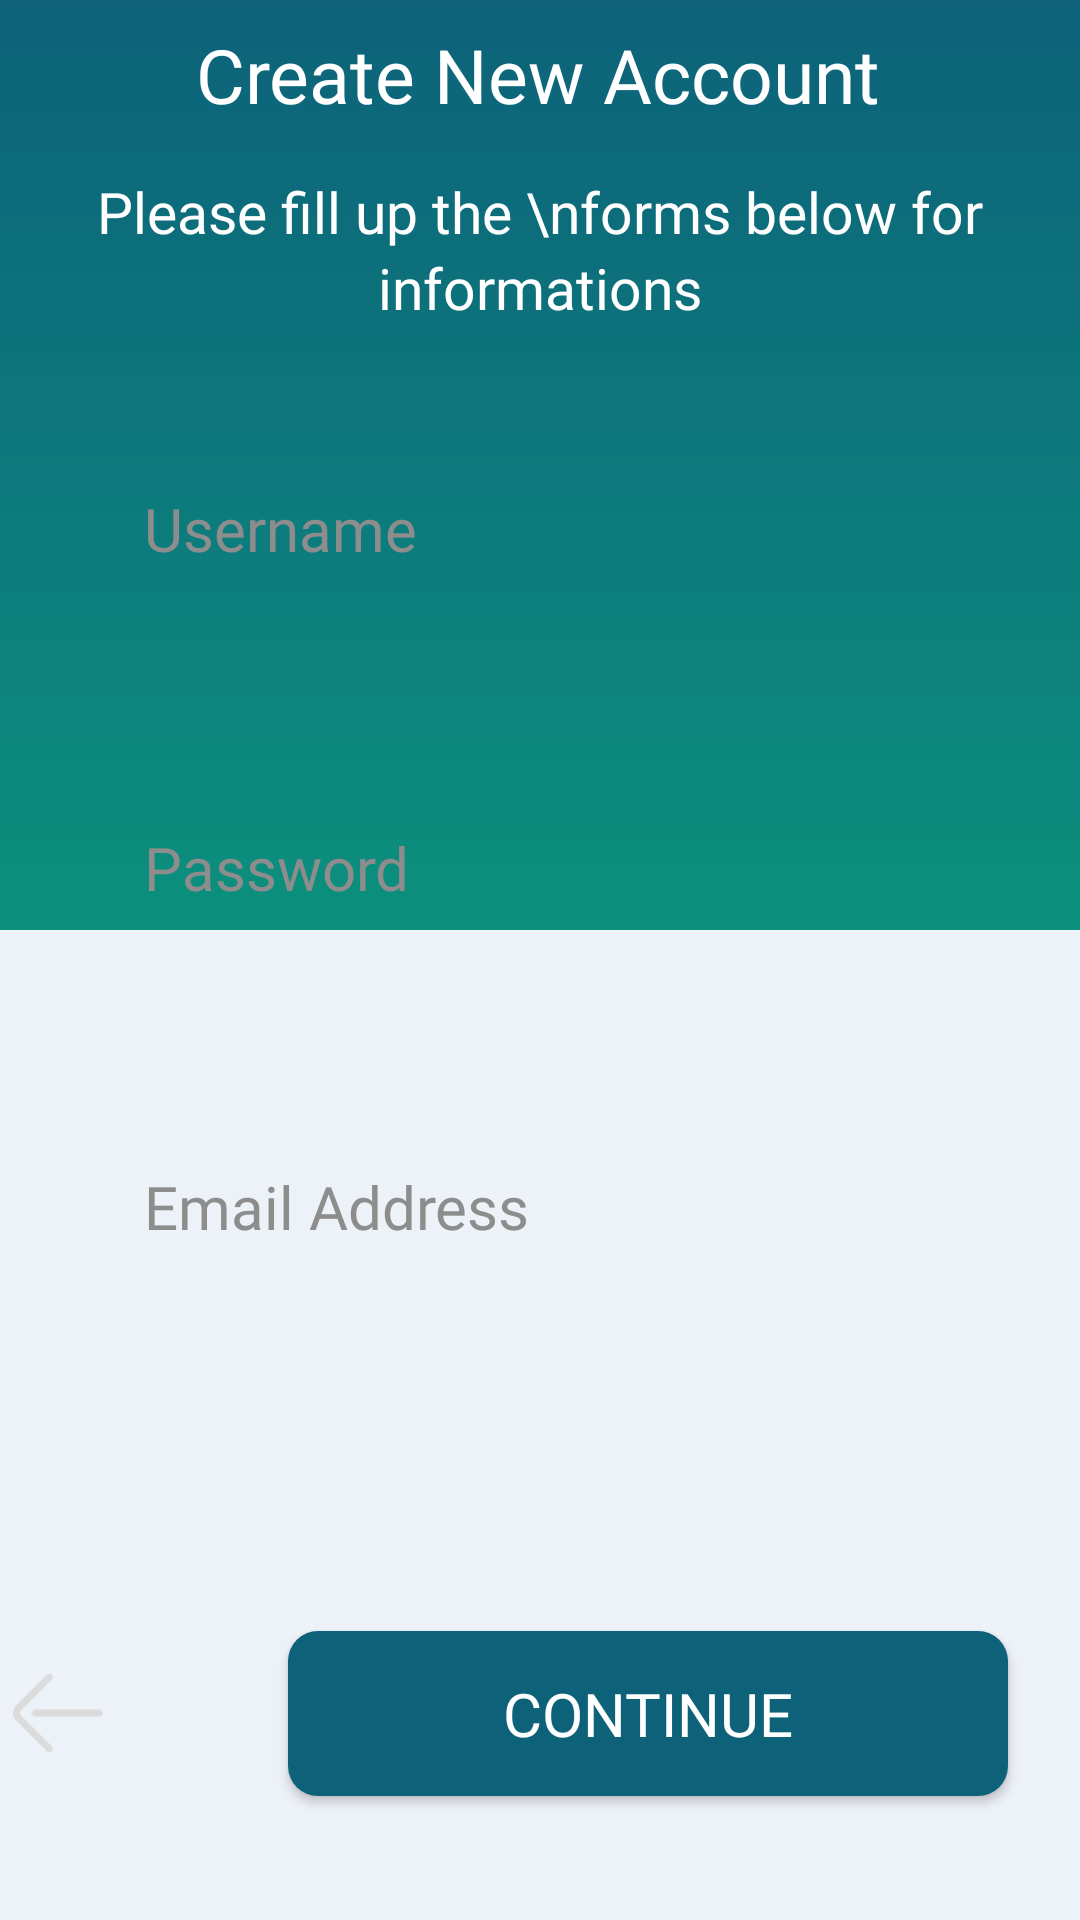

Icons on this 1080*1920 Android screen, each with the point to tap as (x,y):
back: (57,1713)
